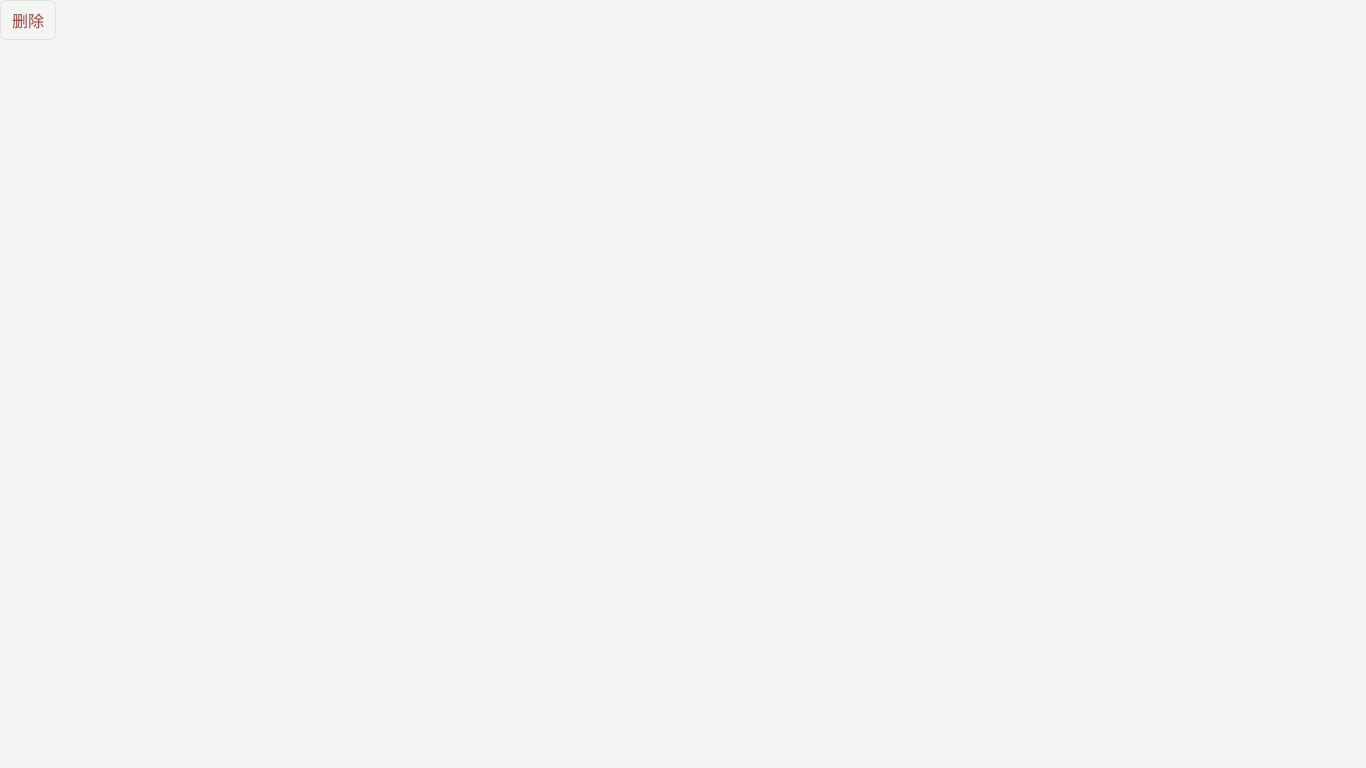
Test: permanent novel deletion › does not send a deletion after cancellation
Click the button with aria-label "永久删除小说 测试小说" at point(28, 20), box [0, 0, 56, 40]
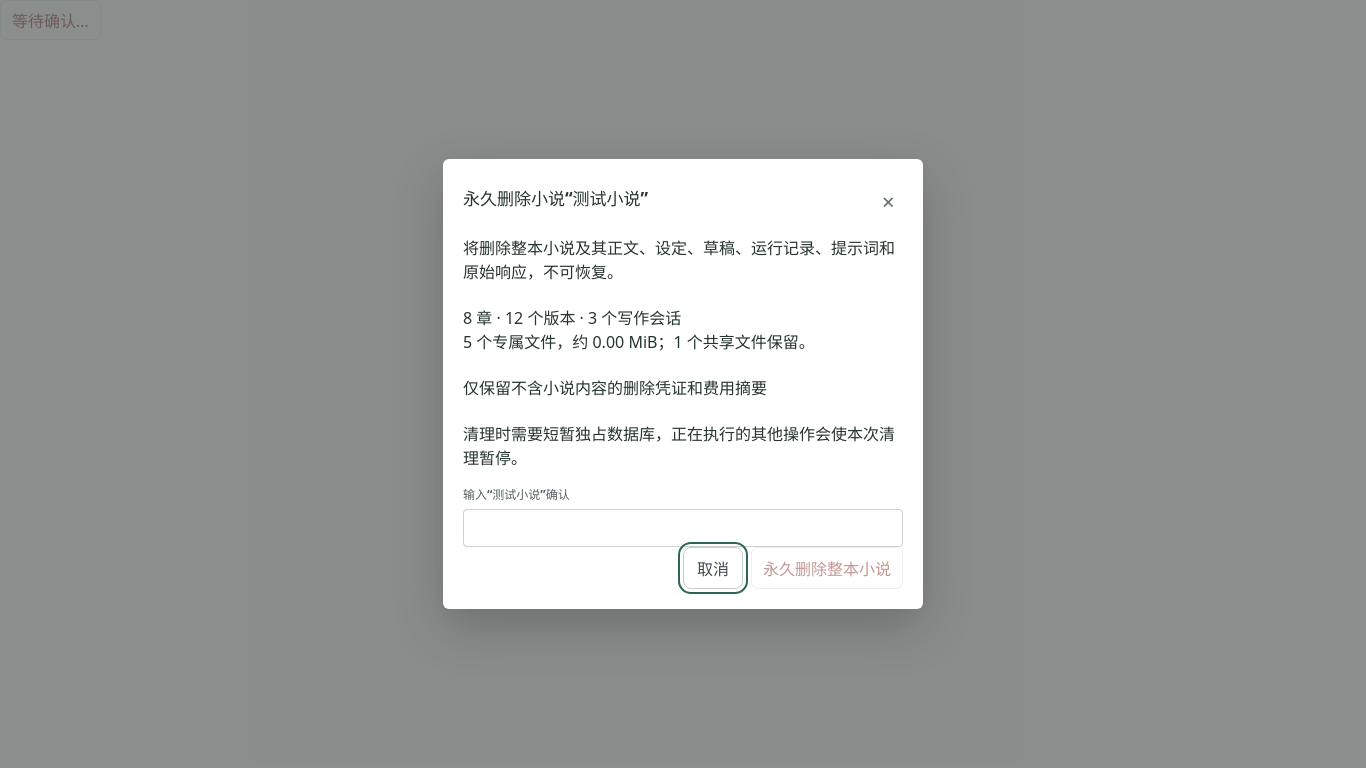
Click the button "取消" at point(713, 568), box [683, 547, 743, 589]
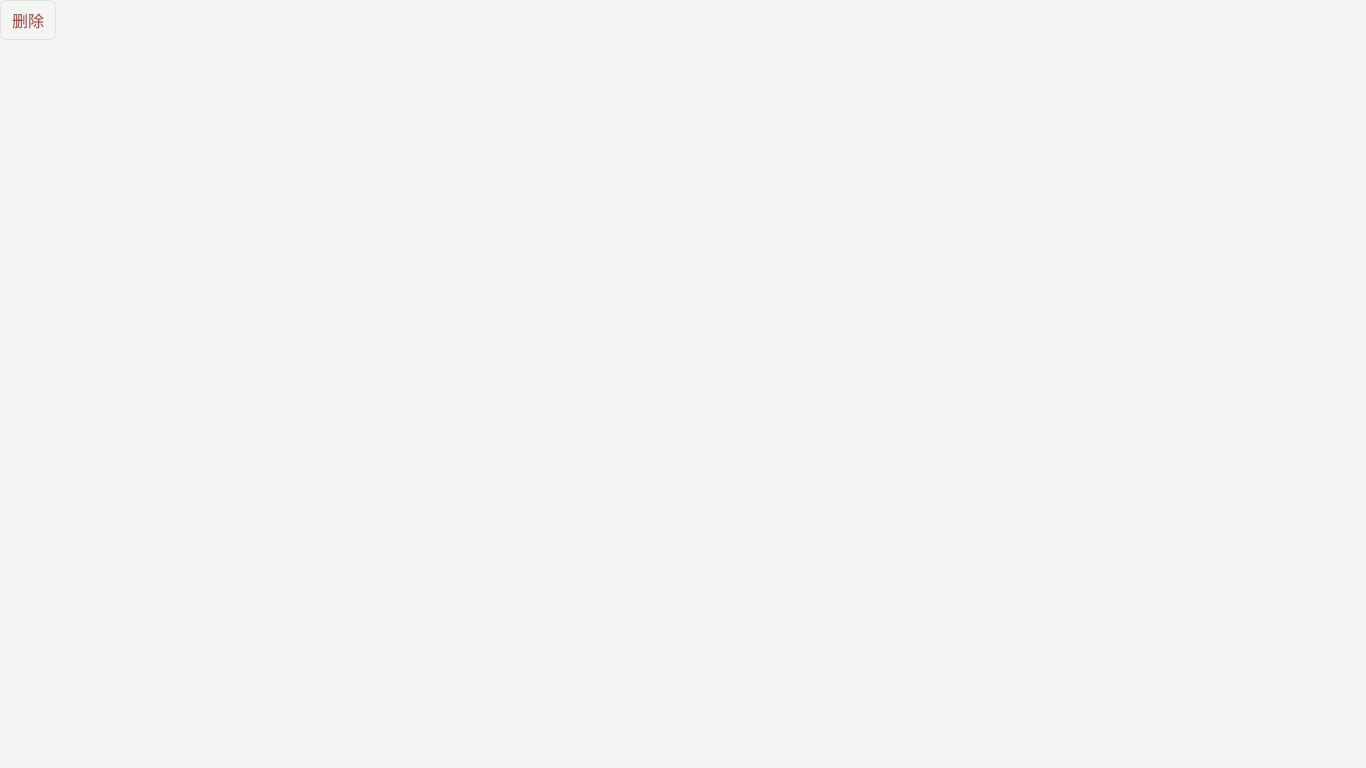
Check: the dialog is gone
